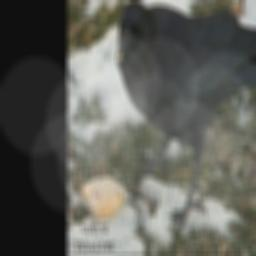Crow: (116, 0, 256, 229)
